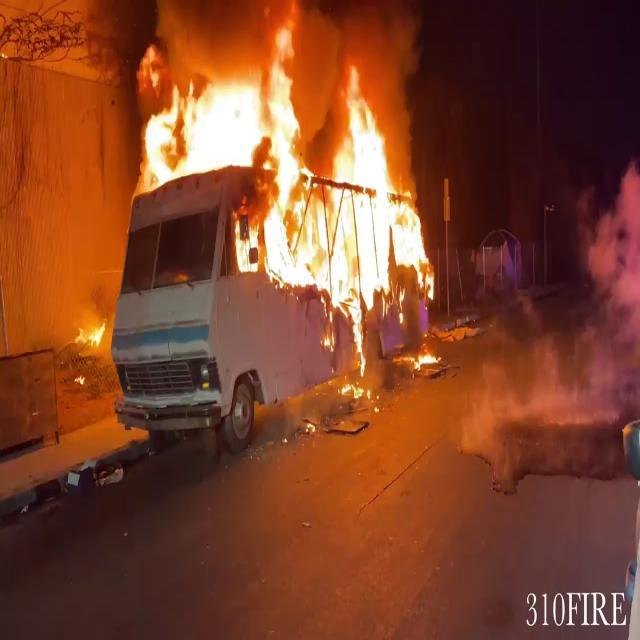Fire: (133, 4, 440, 378)
